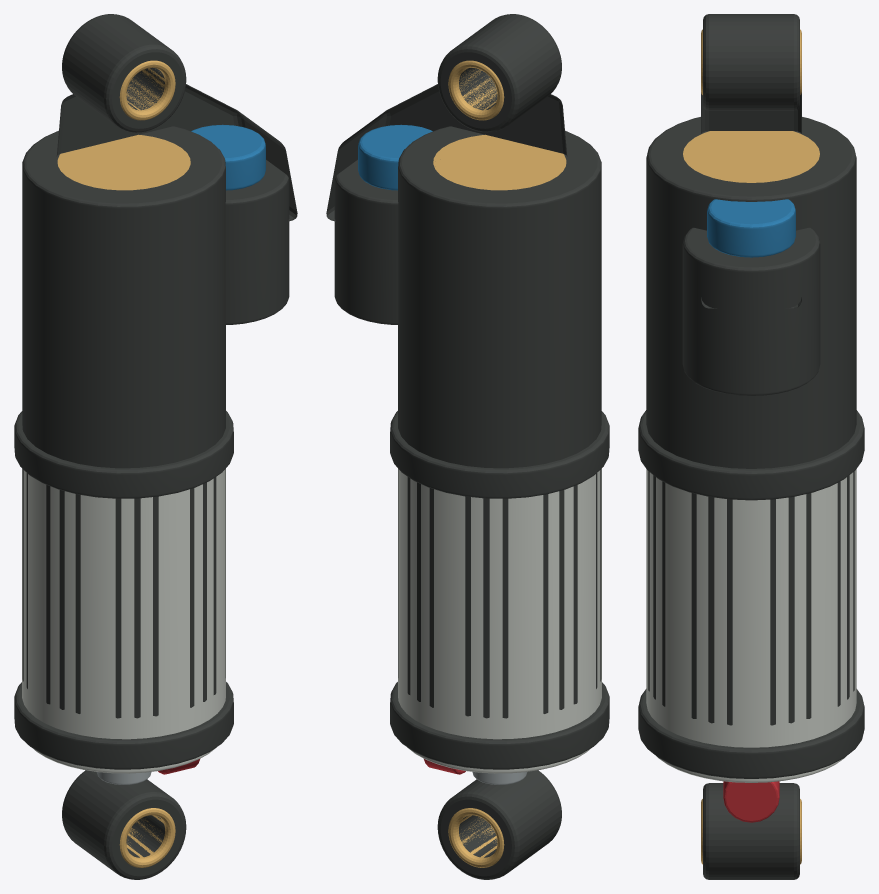
The model's file is fox-float-x2-factory-my26--aea56ffc.glb.
The picture shows the model from 3 angles, left to right: view 1: azimuth 30°, elevation 25°; view 2: azimuth 150°, elevation 25°; view 3: azimuth 270°, elevation 25°; orthographic projection. The views are drawn at different scales.
Parts seen in each view (by area): view 1: fox-float-x2-factory-my26--aea56ffc__link, fox-float-x2-factory-my26--aea56ffc__frame, fox-float-x2-factory-my26--aea56ffc__stanchions, fox-float-x2-factory-my26--aea56ffc__adjuster; view 2: fox-float-x2-factory-my26--aea56ffc__link, fox-float-x2-factory-my26--aea56ffc__frame, fox-float-x2-factory-my26--aea56ffc__stanchions, fox-float-x2-factory-my26--aea56ffc__adjuster; view 3: fox-float-x2-factory-my26--aea56ffc__link, fox-float-x2-factory-my26--aea56ffc__frame, fox-float-x2-factory-my26--aea56ffc__stanchions, fox-float-x2-factory-my26--aea56ffc__adjuster, fox-float-x2-factory-my26--aea56ffc__rebound.
Part boxes in pixels (box(x1,y1,x2,y2)): fox-float-x2-factory-my26--aea56ffc__link: box(14, 14, 297, 879); fox-float-x2-factory-my26--aea56ffc__frame: box(22, 468, 225, 773); fox-float-x2-factory-my26--aea56ffc__stanchions: box(57, 60, 190, 867); fox-float-x2-factory-my26--aea56ffc__adjuster: box(191, 124, 265, 190); fox-float-x2-factory-my26--aea56ffc__link: box(326, 14, 609, 879); fox-float-x2-factory-my26--aea56ffc__frame: box(398, 468, 601, 773); fox-float-x2-factory-my26--aea56ffc__stanchions: box(433, 60, 566, 867); fox-float-x2-factory-my26--aea56ffc__adjuster: box(358, 124, 432, 190); fox-float-x2-factory-my26--aea56ffc__link: box(638, 14, 864, 879); fox-float-x2-factory-my26--aea56ffc__frame: box(646, 469, 856, 782); fox-float-x2-factory-my26--aea56ffc__stanchions: box(683, 29, 819, 864); fox-float-x2-factory-my26--aea56ffc__adjuster: box(707, 199, 795, 257); fox-float-x2-factory-my26--aea56ffc__rebound: box(723, 781, 779, 822).
Size of the model in its own units: 0.074 by 0.234 by 0.056.
